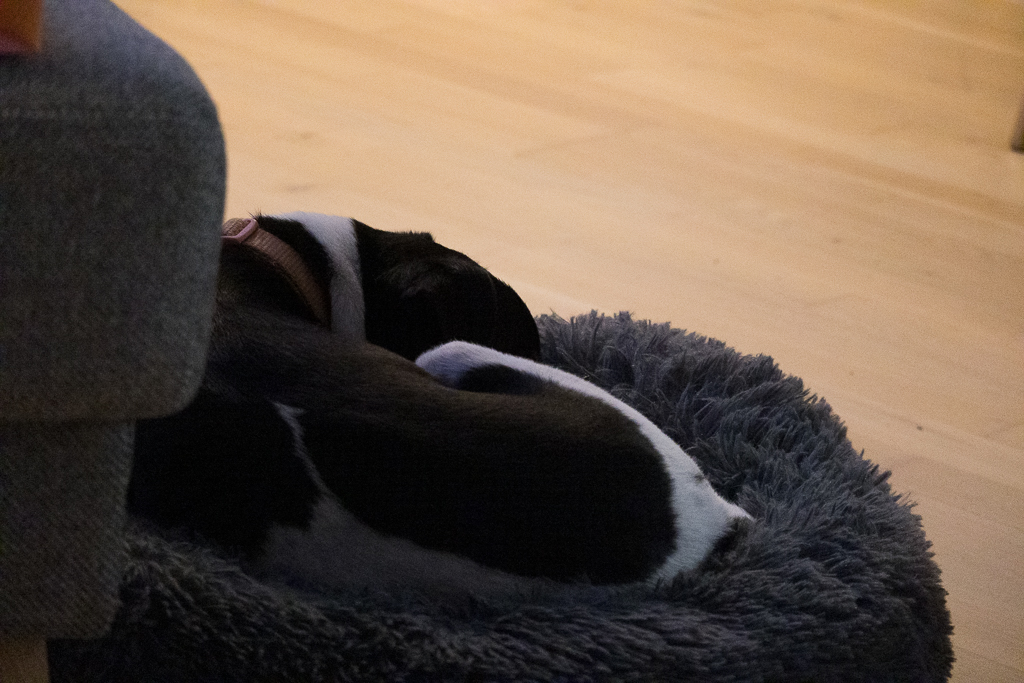Dog: (98, 183, 788, 626)
